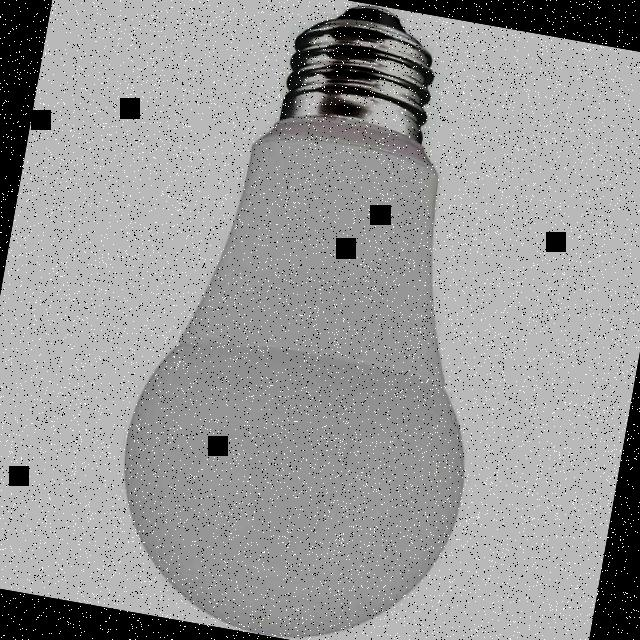light_bulb: (94, 0, 542, 640)
